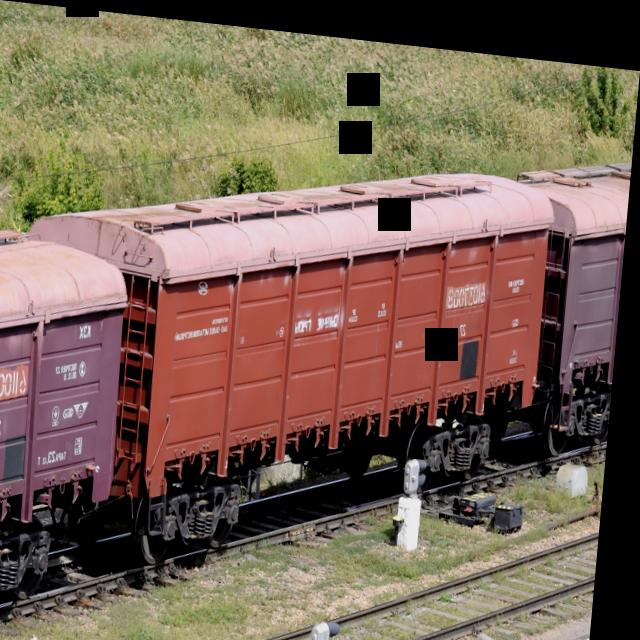boxcar: (80, 114, 564, 597), (0, 203, 142, 640), (547, 117, 635, 433)
